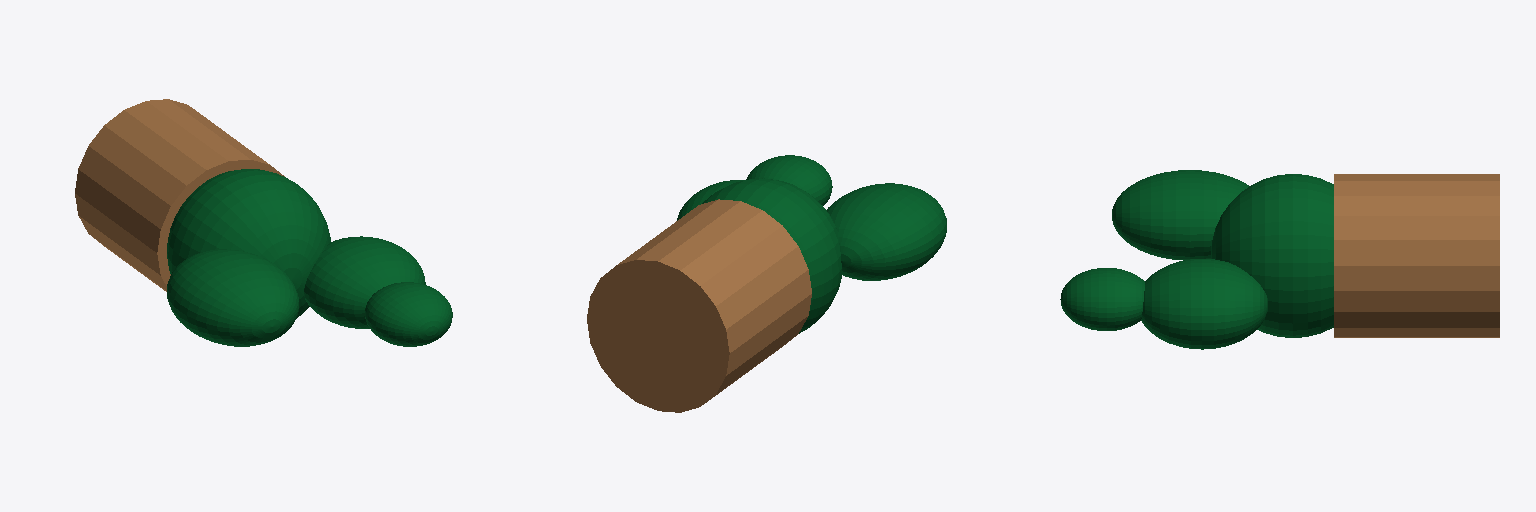
The model's file is Cactus.obj.
The picture shows the model from 3 angles: view 1: azimuth 30°, elevation 25°; view 2: azimuth 150°, elevation 25°; view 3: azimuth 270°, elevation 25°; orthographic projection.
Parts seen in each view (by area): view 1: obj_0; view 2: obj_0; view 3: obj_0.
Boxes of the visible parts, x1=… form: obj_0: x1=75, y1=99, x2=452, y2=346; obj_0: x1=587, y1=155, x2=946, y2=412; obj_0: x1=1060, y1=170, x2=1499, y2=349.
Size of the model in its own units: 34 by 20 by 53.2.